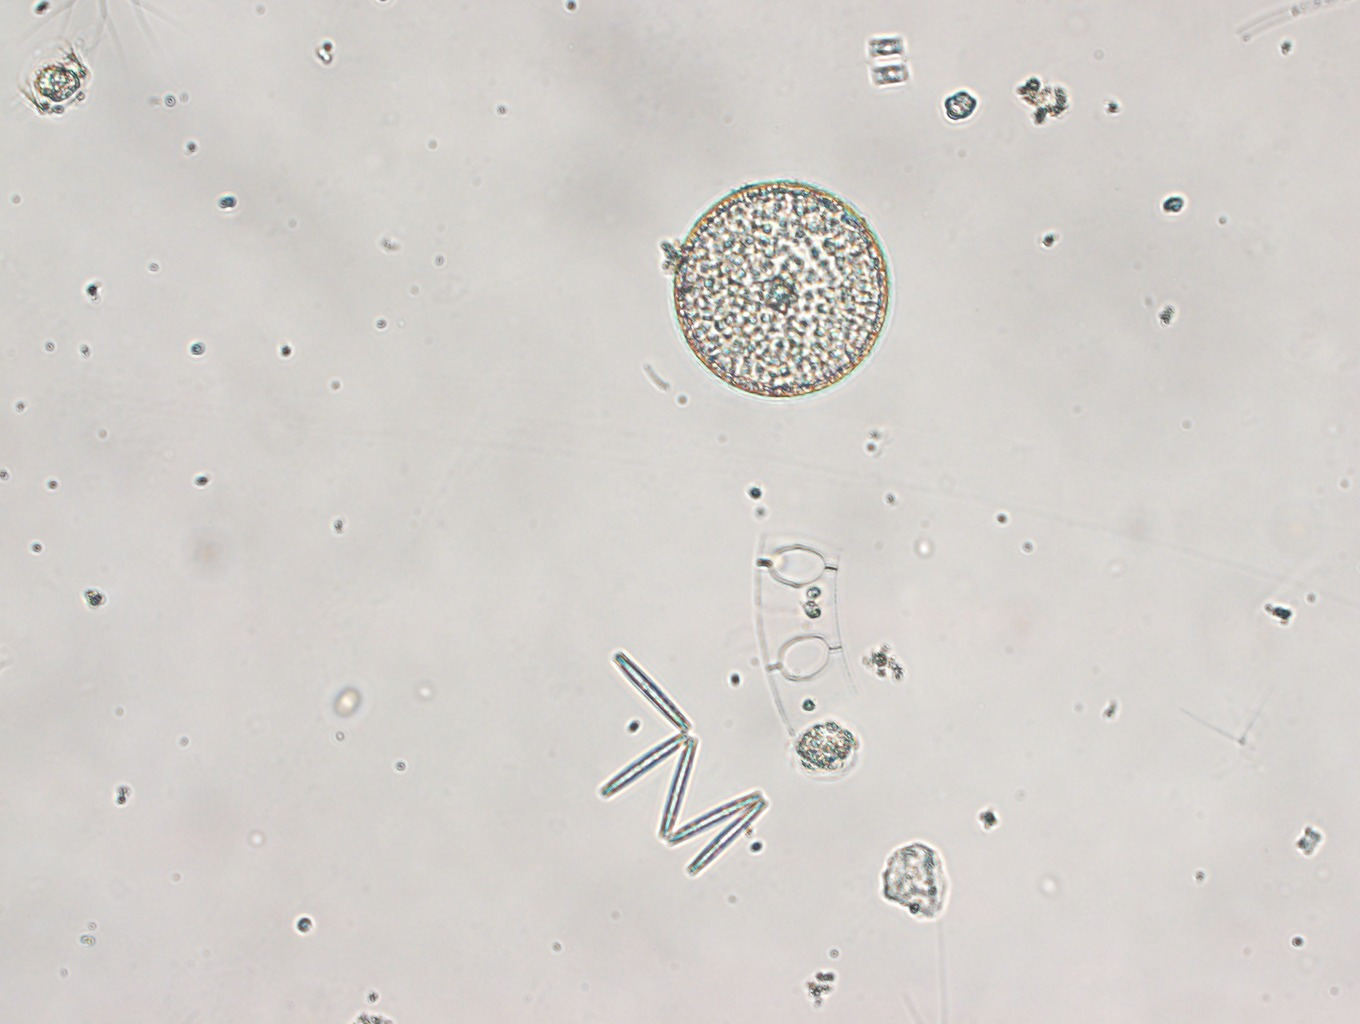coscinodiscus: (671, 177, 890, 399)
eucampia: (755, 522, 858, 734)
thalassionema nitzschioides: (599, 650, 768, 874)
